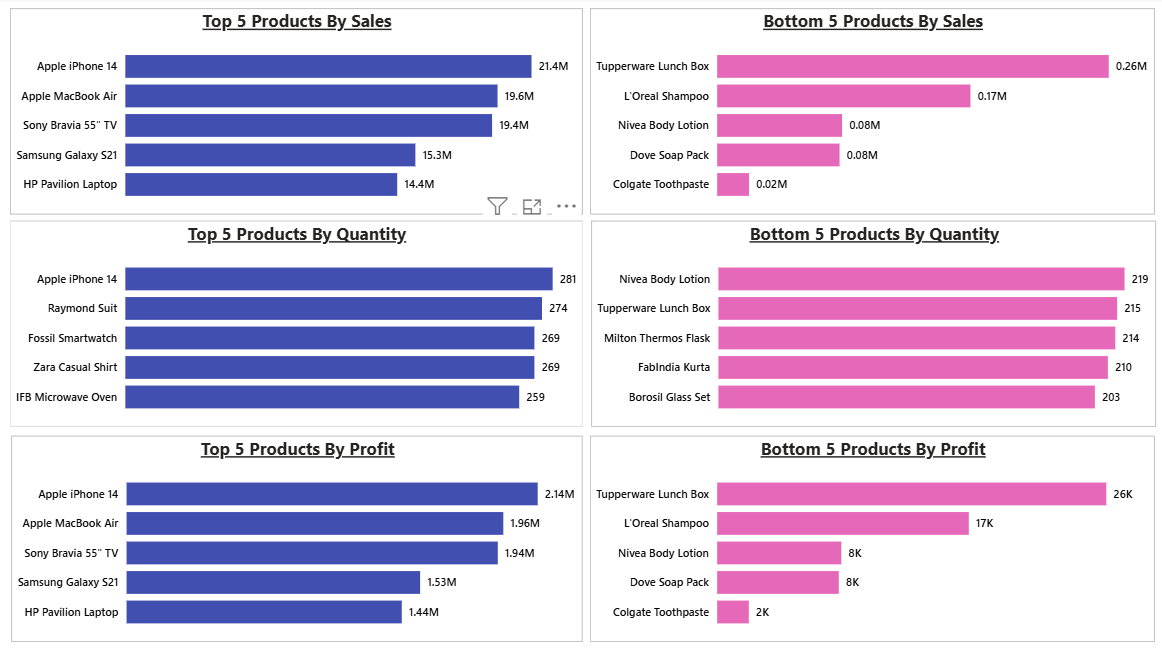

What the dashboard file says about the page in this screenshot:
{"tool":"powerbi","page":{"name":"Top/Bottom 5 Analysis","canvas":[1280,720],"ordinal":1},"visuals":[{"type":"barChart","title":"Top 5 Products By Sales","fields":{"Category":["Dim Product.Product Name"],"Y":["Sum(Fact Table.Net Sales)"]},"box":[11,12.2,628.5,226.2],"z":0},{"type":"barChart","title":"Bottom 5 Products By Sales","fields":{"Category":["Dim Product.Product Name"],"Y":["Sum(Fact Table.Net Sales)"]},"box":[648.1,12.2,620,226.2],"z":1000},{"type":"barChart","title":"Top 5 Products By Quantity","fields":{"Category":["Dim Product.Product Name"],"Y":["Sum(Fact Table.Units Sold)"]},"box":[11,245.8,628.5,226.2],"z":2000},{"type":"barChart","title":"Top 5 Products By Profit","fields":{"Category":["Dim Product.Product Name"],"Y":["Sum(Fact Table.Profit )"]},"box":[12.2,481.8,627.3,226.2],"z":3000},{"type":"barChart","title":"Bottom 5 Products By Quantity","fields":{"Category":["Dim Product.Product Name"],"Y":["Sum(Fact Table.Units Sold)"]},"box":[649.3,245.8,620,226.2],"z":4000},{"type":"barChart","title":"Bottom 5 Products By Profit","fields":{"Category":["Dim Product.Product Name"],"Y":["Sum(Fact Table.Profit )"]},"box":[648.1,481.8,620,226.2],"z":5000}]}

Visuals, with their boxes in screenshot pixels (x1, y1, x2, y2), scaled from the page's 1280x720 canvas onto the 1162x652 screenshot:
"Top 5 Products By Sales" barChart: (x1=10, y1=11, x2=581, y2=216)
"Bottom 5 Products By Sales" barChart: (x1=588, y1=11, x2=1151, y2=216)
"Top 5 Products By Quantity" barChart: (x1=10, y1=223, x2=581, y2=427)
"Top 5 Products By Profit" barChart: (x1=11, y1=436, x2=581, y2=641)
"Bottom 5 Products By Quantity" barChart: (x1=589, y1=223, x2=1152, y2=427)
"Bottom 5 Products By Profit" barChart: (x1=588, y1=436, x2=1151, y2=641)
